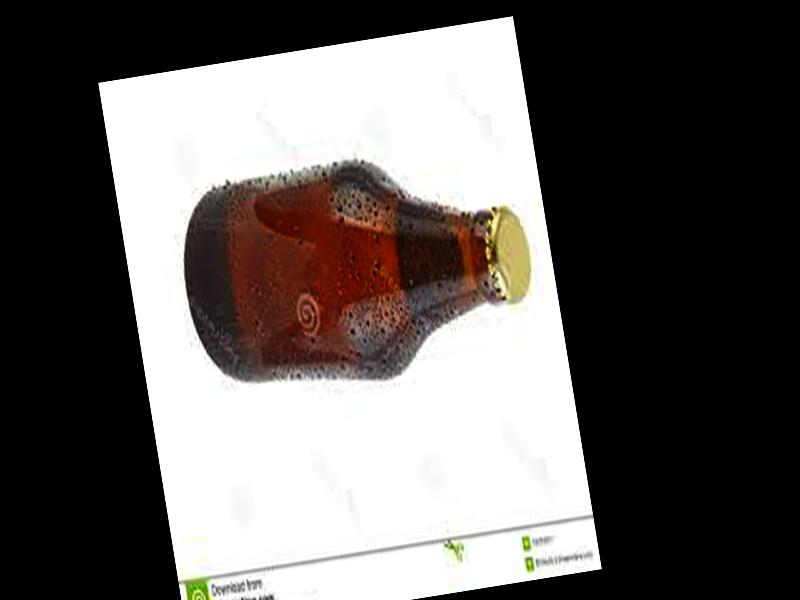Beer: (171, 134, 543, 406)
